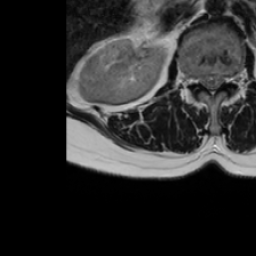CCS_normal: (208, 66, 216, 102)
LFS_stenosis: (225, 68, 233, 90)
LLS_normal: (216, 68, 225, 91)
RFS_stenosis: (191, 68, 200, 89)
RLS_normal: (200, 68, 208, 94)
